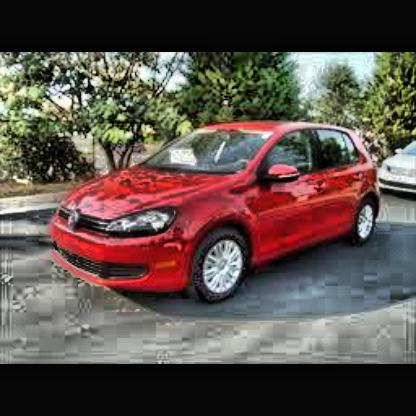Volkswagen Golf Hatchback 2012: (50, 121, 392, 311)
